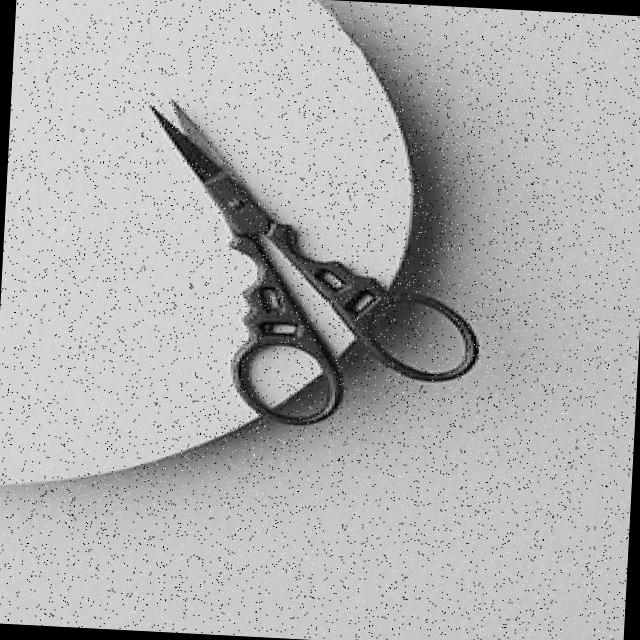scissors: (126, 95, 502, 440)
